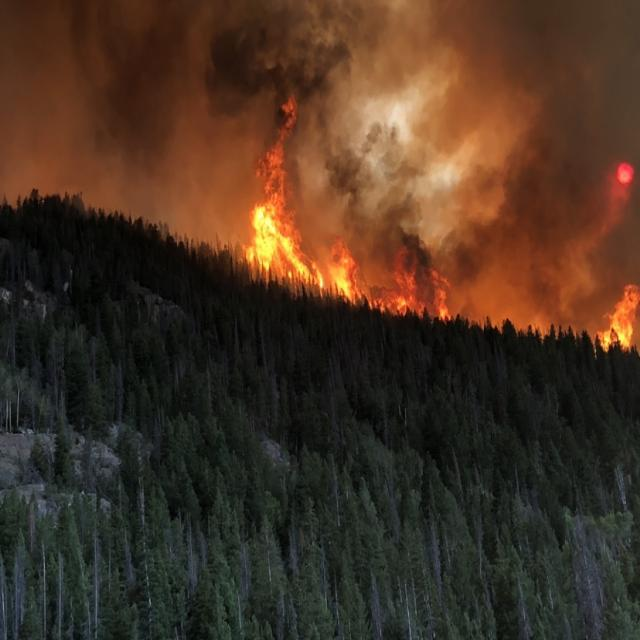Fire: (233, 90, 459, 326), (599, 284, 640, 364)
